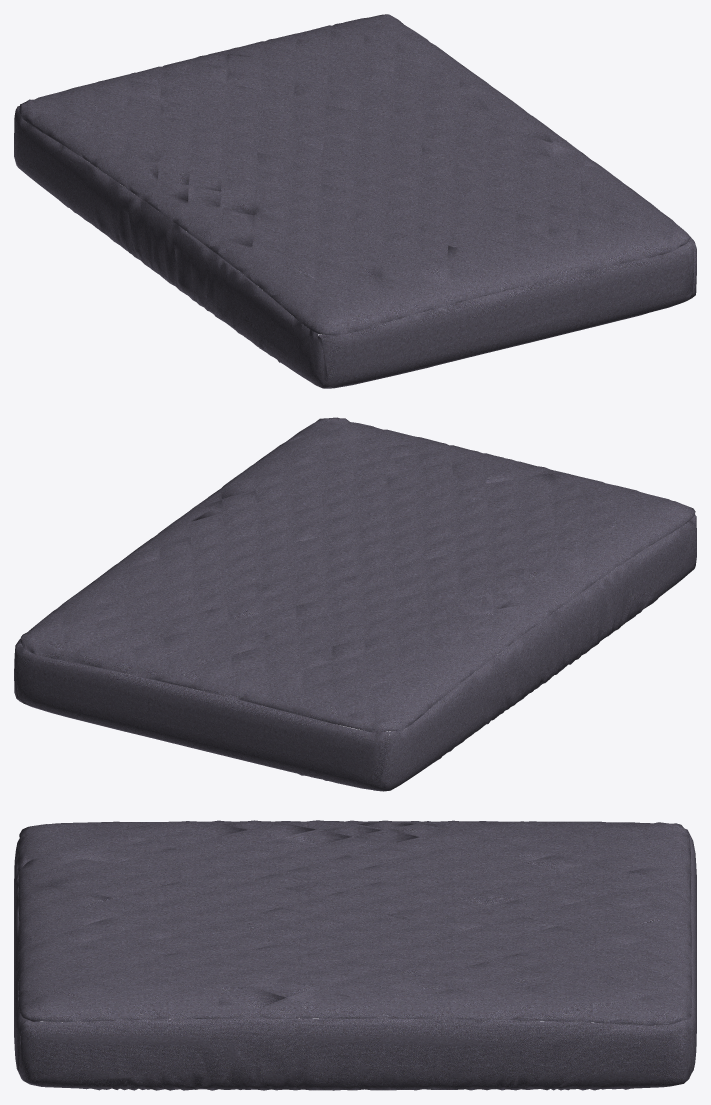
The model's file is bk_mattress.glb.
3 views of the same model, one above another, from view 1: azimuth 30°, elevation 25°; view 2: azimuth 150°, elevation 25°; view 3: azimuth 270°, elevation 25° (orthographic). The views are drawn at different scales.
Visible parts, largest first — view 1: Diamond Pattern Mattress - Full Size; view 2: Diamond Pattern Mattress - Full Size; view 3: Diamond Pattern Mattress - Full Size.
Boxes of the visible parts, left/top/right/bottom form: Diamond Pattern Mattress - Full Size: left=14, top=14, right=696, bottom=388; Diamond Pattern Mattress - Full Size: left=14, top=417, right=696, bottom=791; Diamond Pattern Mattress - Full Size: left=14, top=820, right=696, bottom=1090.
Size of the model in its own units: 1.35 by 0.282 by 1.9.
1 material, 1 textured.
